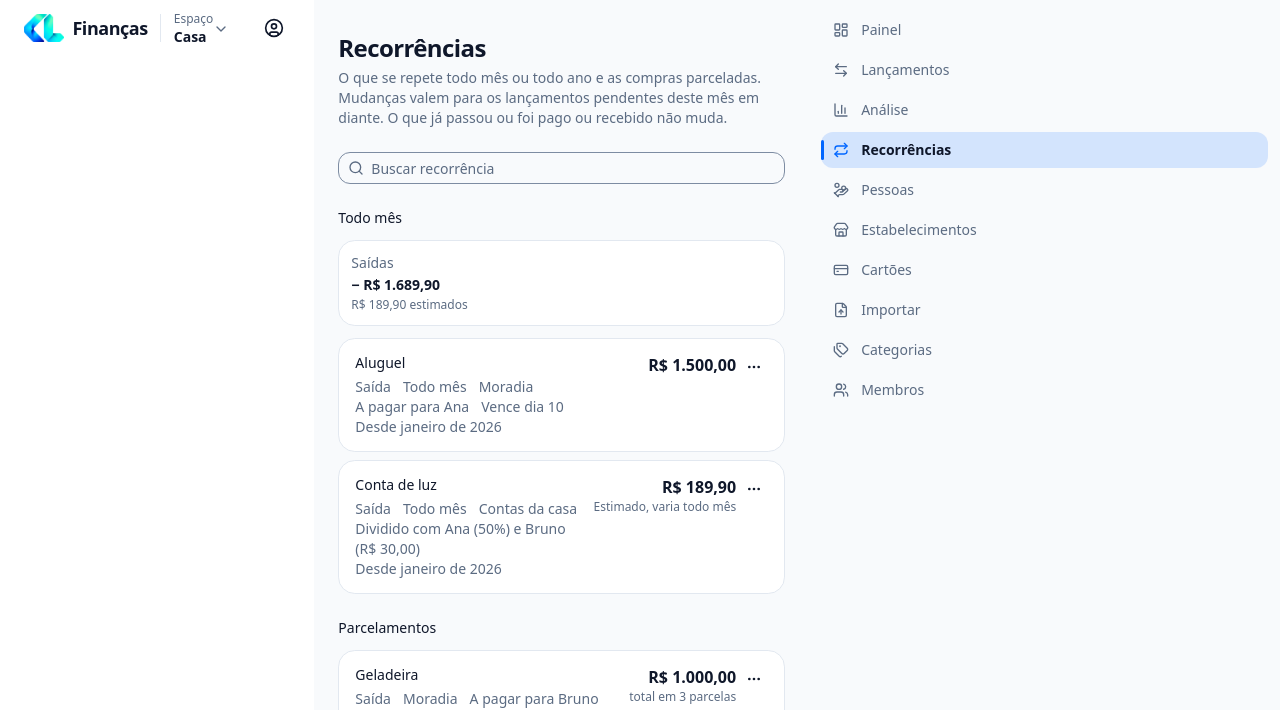
Test case: RecurrencesPage › shows who a recurrence is split with, and does not change the split when editing
This screenshot has width=1280, height=710.
Click the button named "Ações de Conta de luz".
click(754, 489)  # box [740,475,768,503]
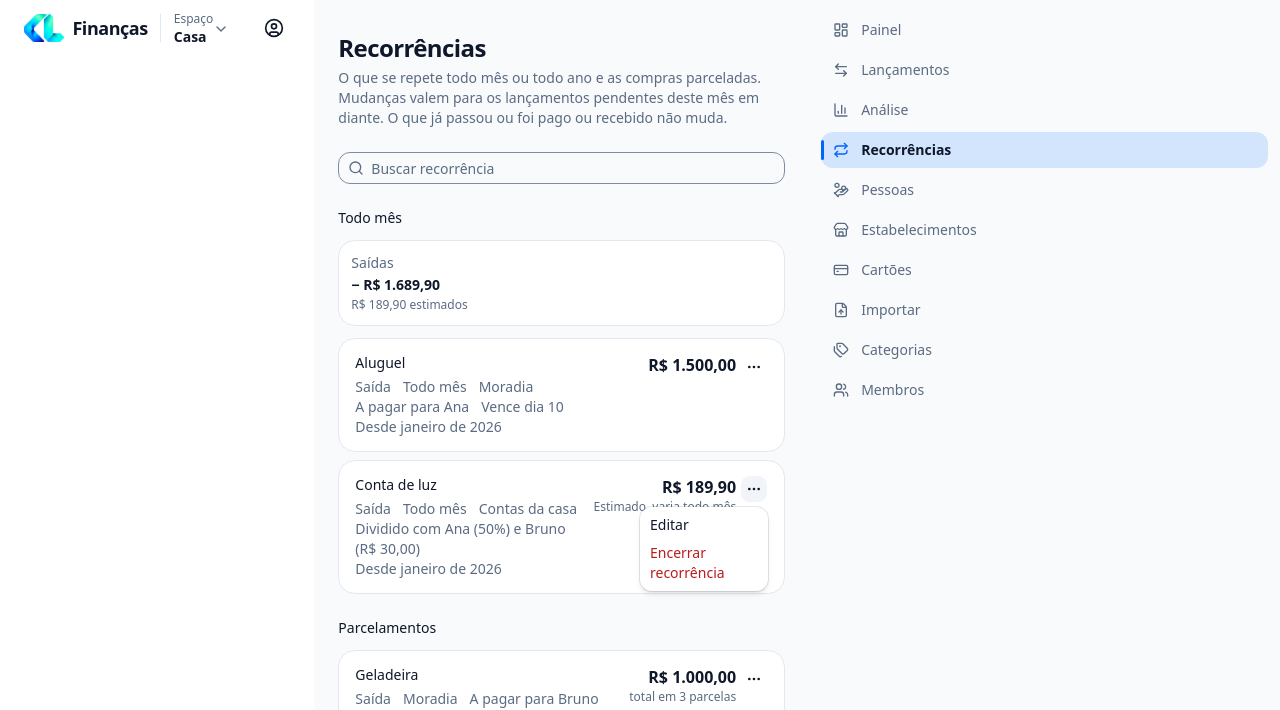
Click the menu item "Editar".
click(669, 524)  # box [650,515,689,534]
(page scrolled)
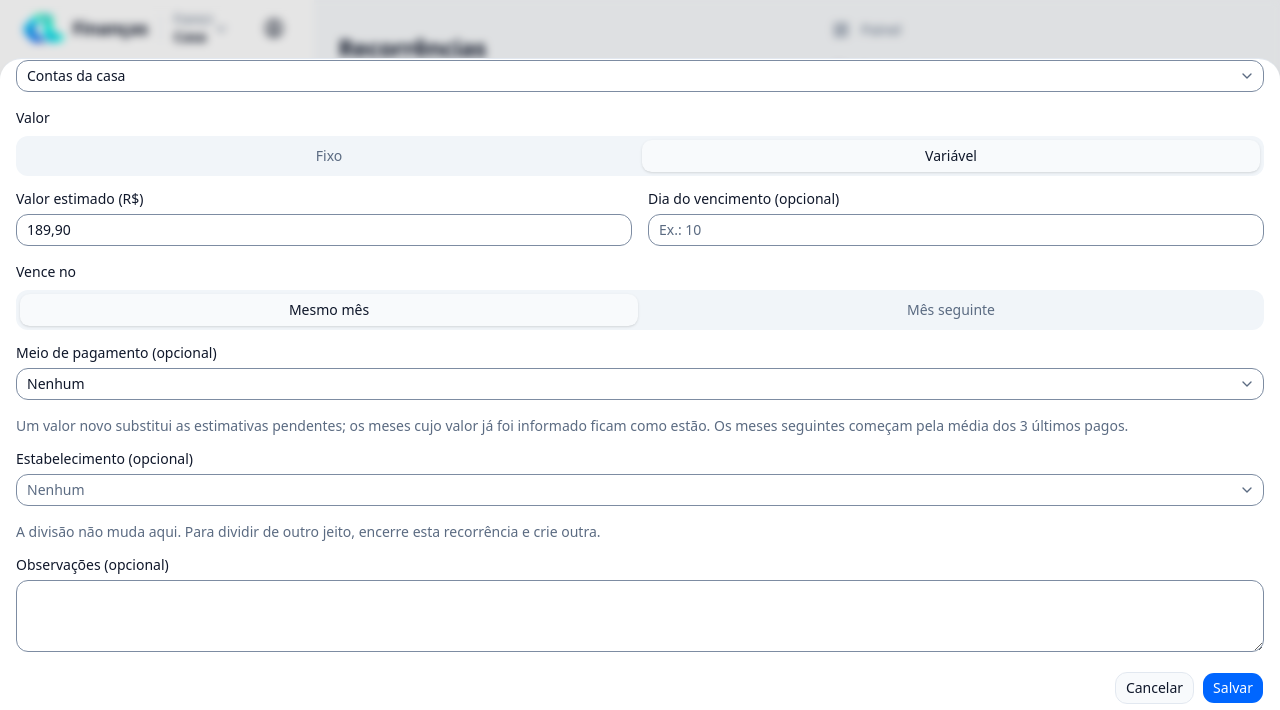
Expected: the text "A divisão não muda aqui" is shown, [16,522,600,541]
